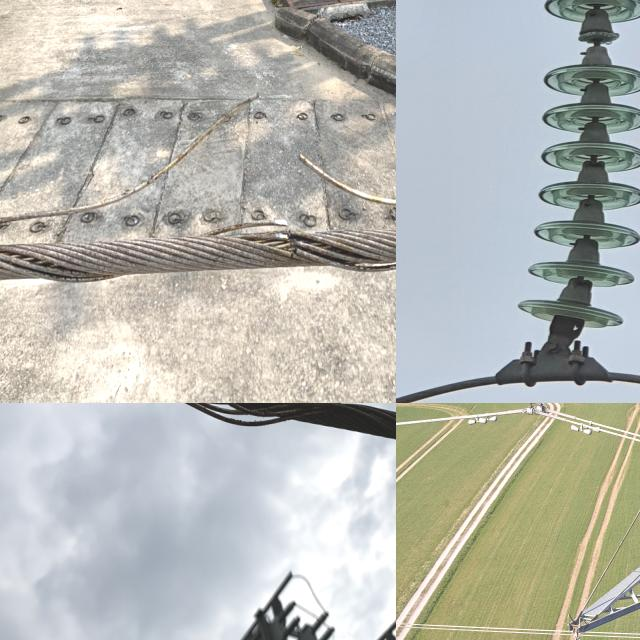杆塔: (511, 403, 640, 640)
正常电缆: (396, 403, 640, 450), (396, 615, 640, 640)
正常绝缘子: (522, 0, 640, 350)
电缆破损: (0, 76, 396, 301)
绝缘子破损: (578, 19, 620, 57)
